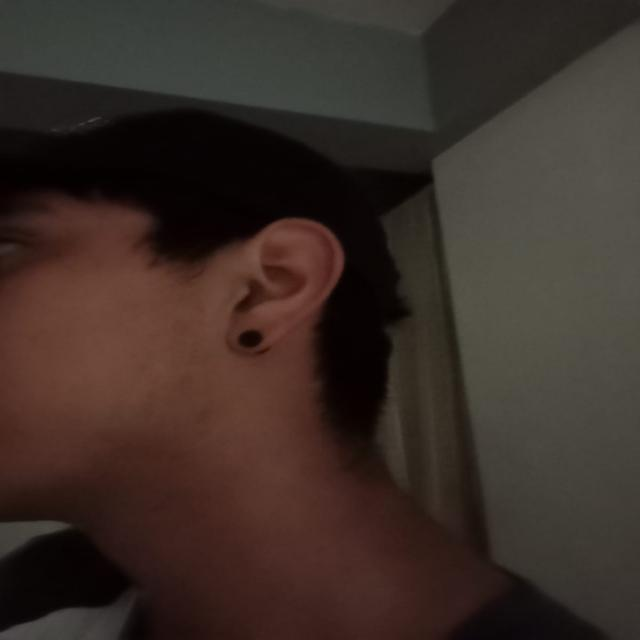ear: (227, 219, 343, 352)
